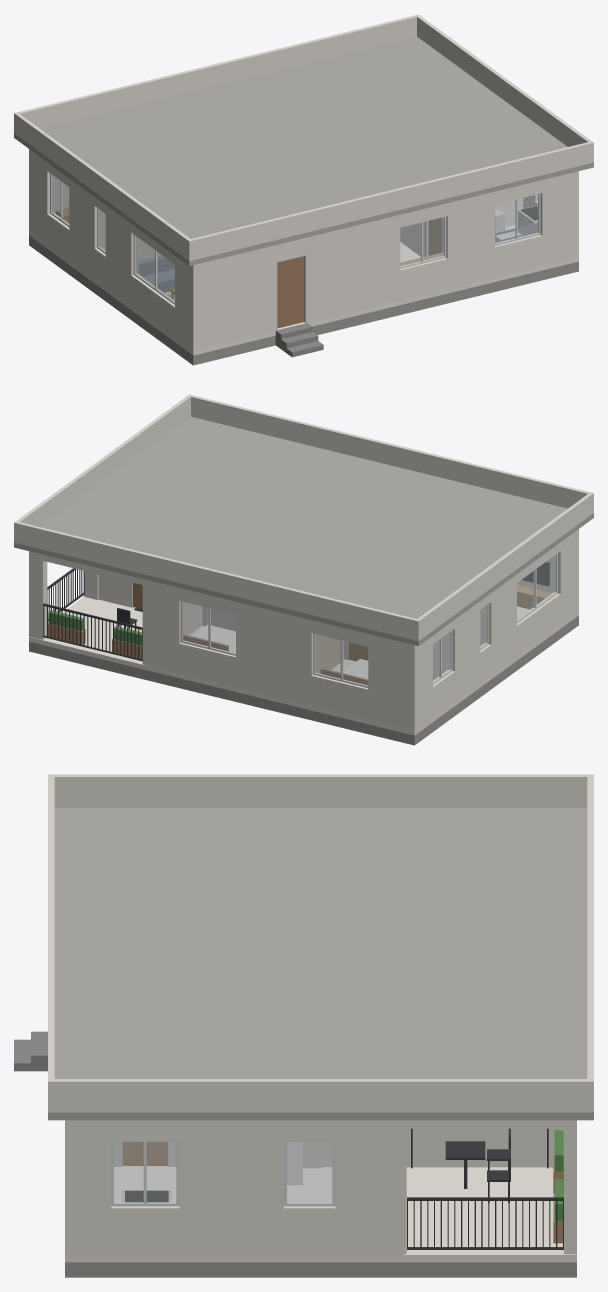
The picture shows the model from 3 angles, top to bottom: view 1: azimuth 30°, elevation 25°; view 2: azimuth 150°, elevation 25°; view 3: azimuth 270°, elevation 25°; orthographic projection. The views are drawn at different scales.
Visible parts, largest first — view 1: Roof, Walls, Parapet, Glass, Plinth, Floor, Frames, Doors, Lintels, Steps, F_fabric, Sills (+1 smaller); view 2: Roof, Walls, Parapet, Glass, Plinth, Floor, Rail, Columns, Frames, Lintels, F_wood, F_linen (+6 smaller); view 3: Roof, Walls, Parapet, Floor, Plinth, Glass, Rail, Columns, Frames, F_metal, Lintels, Beams (+4 smaller).
Boxes of the visible parts, x1,y1,x2,y2 form: Roof: (14,36,593,265); Walls: (29,149,578,350); Parapet: (14,14,593,261); Glass: (52,175,538,301); Plinth: (29,235,578,365); Floor: (29,225,578,355); Frames: (50,173,540,330); Doors: (277,218,441,328); Lintels: (47,163,542,264); Steps: (275,323,323,357); F_fabric: (138,255,174,292); Sills: (47,201,542,308); Roof: (14,416,593,645); Walls: (98,529,578,730); Parapet: (14,394,593,641); Glass: (183,555,555,685); Plinth: (29,615,578,745); Floor: (29,596,578,735); Rail: (43,568,142,661); Columns: (29,551,208,664); Frames: (130,553,557,687); Lintels: (179,547,560,646); F_wood: (183,584,551,685); F_linen: (192,625,368,678); Roof: (48,808,593,1120); Walls: (65,1120,551,1254); Parapet: (48,774,593,1112); Floor: (65,1166,576,1262); Plinth: (65,1262,576,1277); Glass: (114,1142,331,1202); Rail: (407,1197,563,1249); Columns: (303,1120,576,1254); Frames: (111,1141,335,1206); F_metal: (411,1128,548,1202); Lintels: (111,1127,335,1141); Beams: (404,1120,569,1128).
Size of the model in its own units: 12.83 by 3.95 by 10.23.
